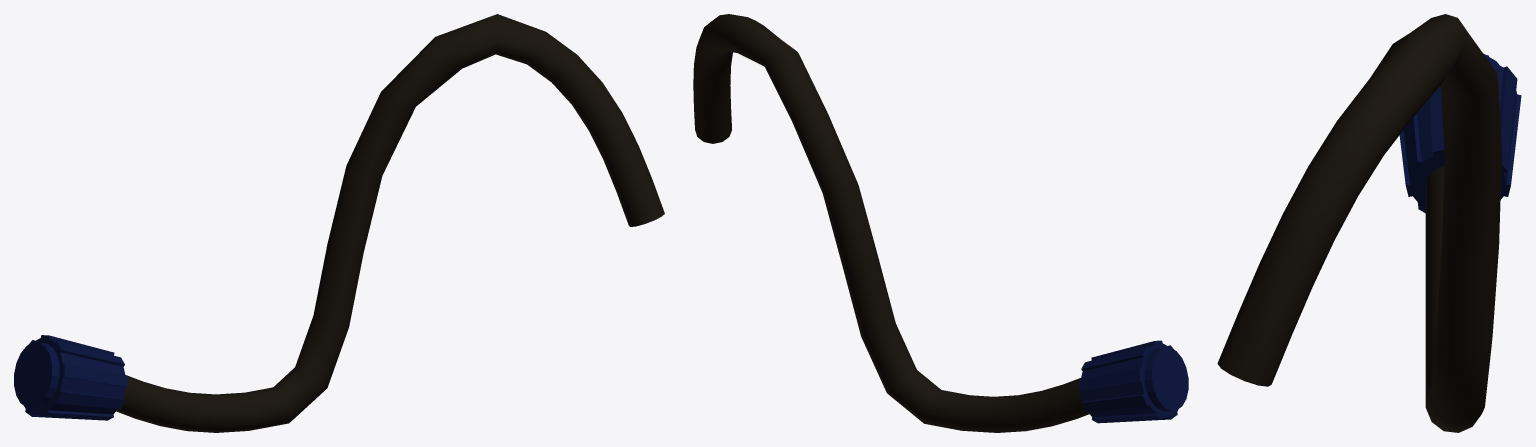
Rendered from stage8 pesticide hose.fbx.
3 views of the same model, side by side, from view 1: azimuth 30°, elevation 25°; view 2: azimuth 150°, elevation 25°; view 3: azimuth 270°, elevation 25° (orthographic). The views are drawn at different scales.
Parts seen in each view (by area): view 1: Cylinder006; view 2: Cylinder006; view 3: Cylinder006.
Part boxes in pixels (x1,y1,x2,y2): Cylinder006: [14, 14, 664, 432]; Cylinder006: [693, 14, 1188, 432]; Cylinder006: [1217, 14, 1521, 432].
Bounding box in the file's own units: 13.19 × 4.02 × 8.04.
